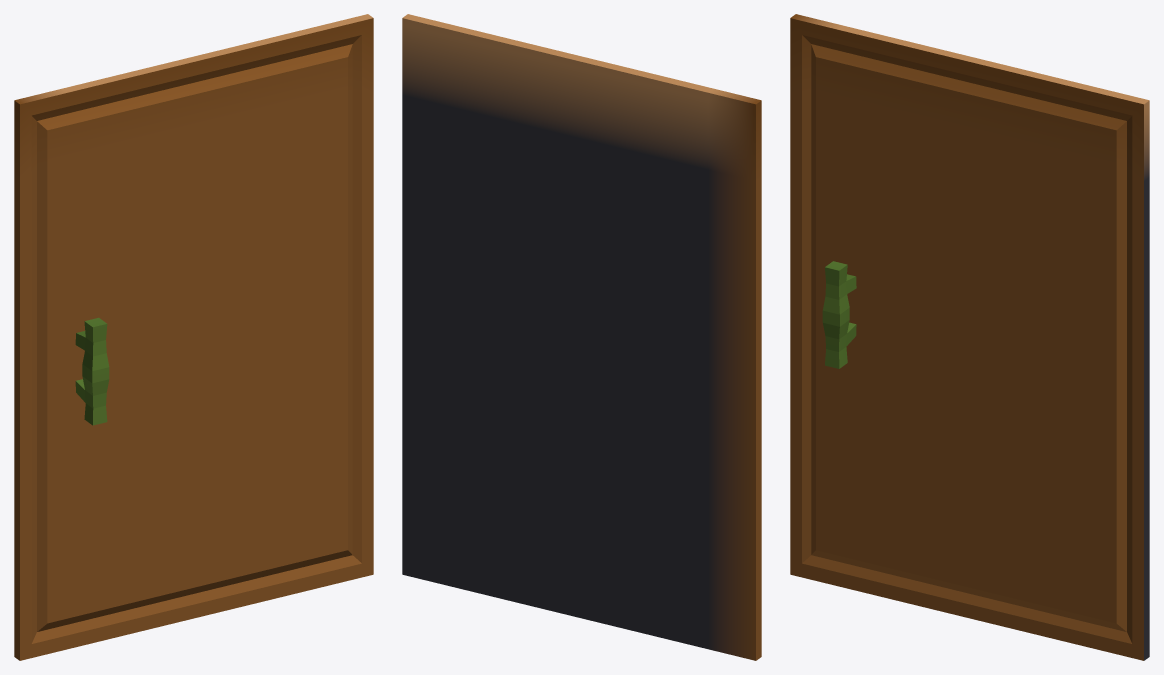
The model's file is InteractiveFurniture12_02.fbx.
3 renders of one model, left to right at view 1: azimuth 30°, elevation 25°; view 2: azimuth 150°, elevation 25°; view 3: azimuth 330°, elevation 25°, orthographic.
Visible parts, largest first — view 1: InteractiveFurniture12_02; view 2: InteractiveFurniture12_02; view 3: InteractiveFurniture12_02.
Boxes of the visible parts, x1,y1,x2,y2 form: InteractiveFurniture12_02: [14, 14, 373, 660]; InteractiveFurniture12_02: [402, 14, 761, 660]; InteractiveFurniture12_02: [790, 14, 1149, 660].
Bounding box in the file's own units: 0.3969 × 0.5966 × 0.0496.
